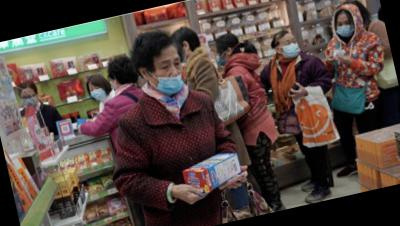mask_weared_incorrect: (149, 54, 189, 98)
with_mask: (279, 36, 303, 61), (335, 16, 360, 39), (89, 82, 109, 103), (19, 90, 39, 110), (215, 45, 231, 67)
